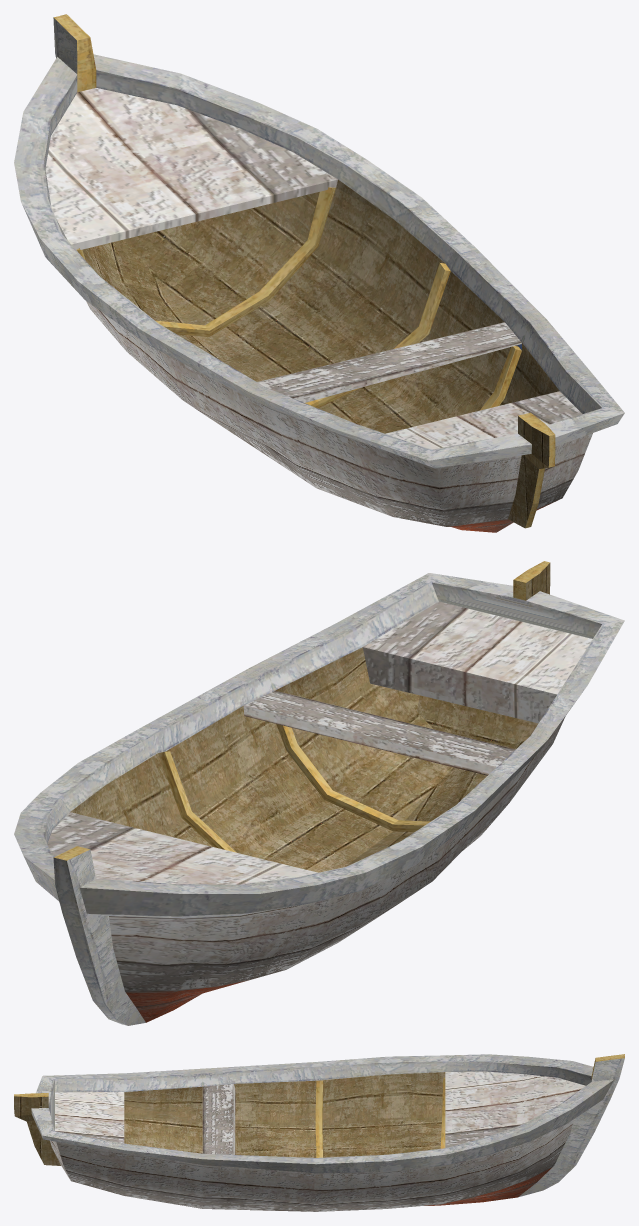
File: Boat 02.glb
3 views of the same model, one above another, from view 1: azimuth 30°, elevation 25°; view 2: azimuth 150°, elevation 25°; view 3: azimuth 270°, elevation 25° (orthographic). The views are drawn at different scales.
Parts seen in each view (by area): view 1: boat_b_whole.3; view 2: boat_b_whole.3; view 3: boat_b_whole.3.
Boxes of the visible parts, <box> form: boat_b_whole.3: <box>14,14,624,532</box>; boat_b_whole.3: <box>14,561,624,1025</box>; boat_b_whole.3: <box>14,1054,624,1211</box>.
Bounding box in the file's own units: 0.021 × 0.0142 × 0.0517.
1 material, 1 textured.
